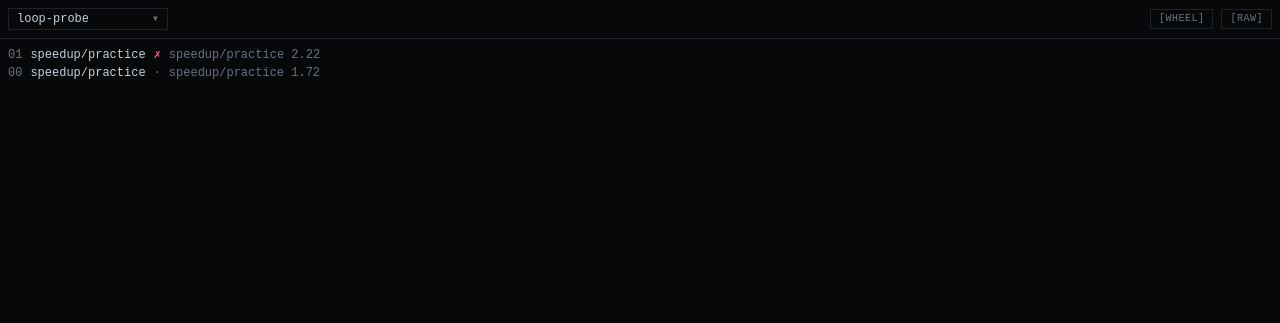
FlywheelPane round detail — comparability › reports the summary's refusal, not the matching eval-set hashes
Click the button "01 speedup/practice ✗ speedup/practice 2.22" at coordinates (88, 55), box [8,47,1272,63]
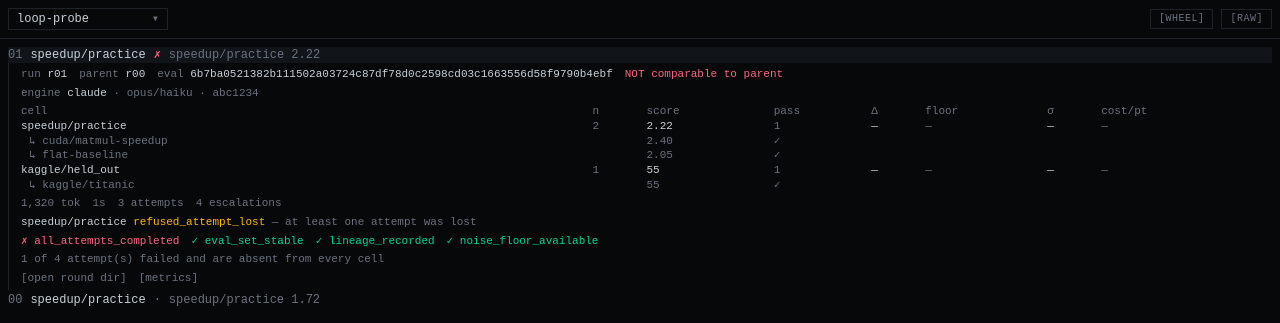
Now the text "NOT comparable to parent" is shown, box [625,67,783,82]
Now the text "✗ all_attempts_completed" is shown, box [21,234,180,248]
Now the text "refused_attempt_lost" is shown, box [133,216,265,228]
